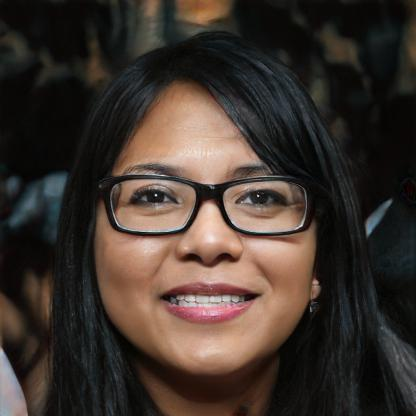glasses: (101, 170, 312, 244)
